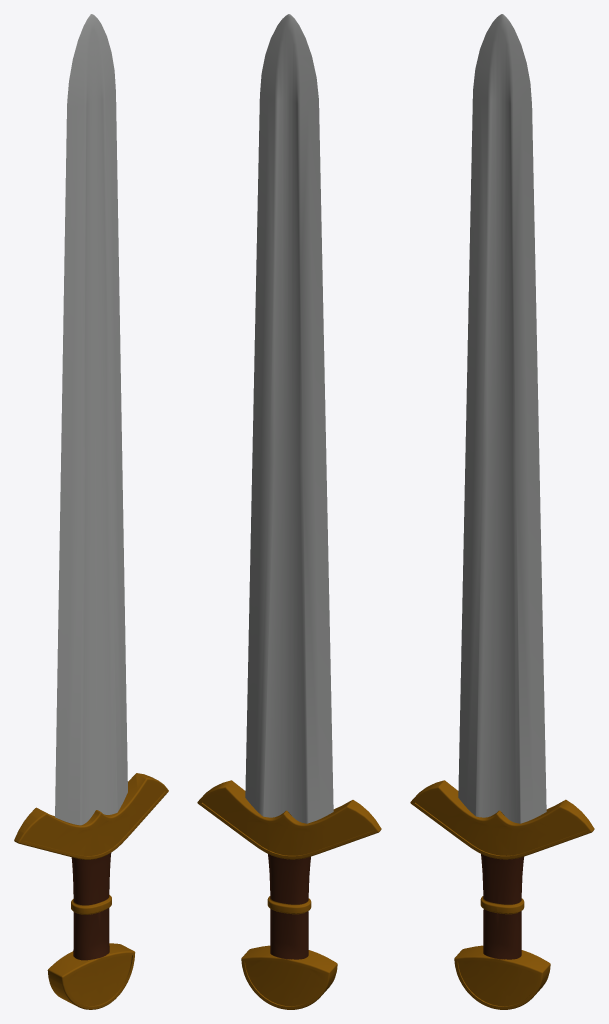
The model's file is sword.fbx.
3 views of the same model, side by side, from view 1: azimuth 30°, elevation 25°; view 2: azimuth 150°, elevation 25°; view 3: azimuth 330°, elevation 25° (orthographic).
Parts seen in each view (by area): view 1: node_id68; view 2: node_id68; view 3: node_id68.
Part boxes in pixels (x1,y1,x2,y2): node_id68: (14, 14, 168, 1009); node_id68: (197, 14, 381, 1009); node_id68: (410, 14, 594, 1009).
Bounding box in the file's own units: 0.0532 × 0.3011 × 0.0109.
Materials: 1 (1 with a texture image).
